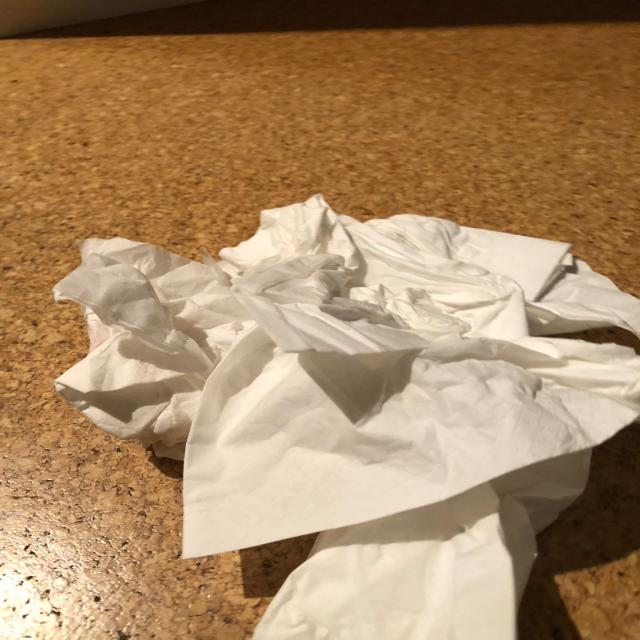kitchen paper: (177, 261, 640, 570), (52, 228, 421, 452), (246, 454, 598, 640), (206, 194, 640, 334)
